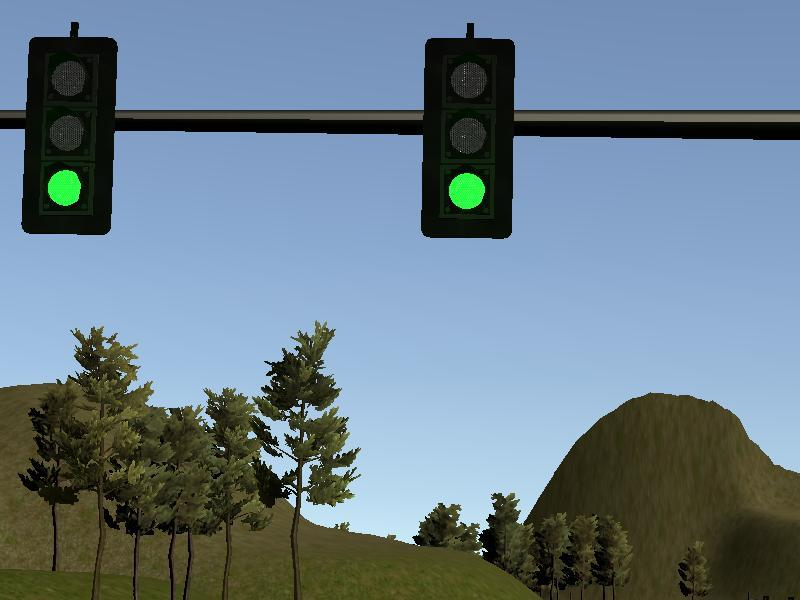Green: (425, 40, 513, 233), (28, 39, 110, 234)
